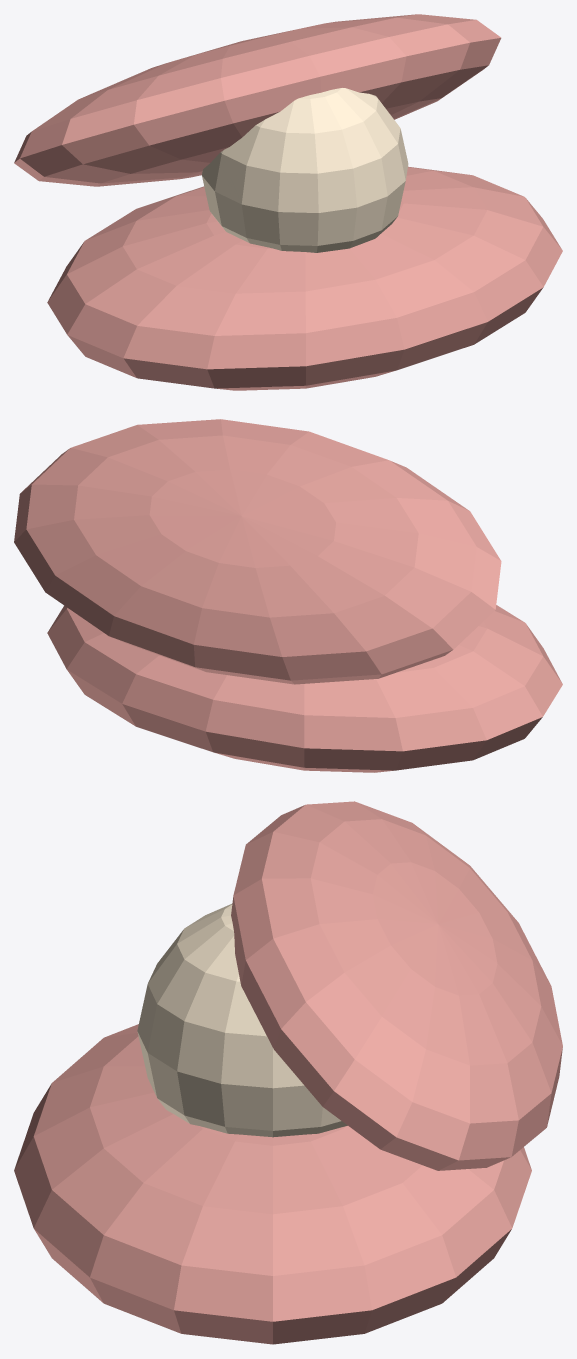
The model's file is palau-pearl-gift.glb.
3 renders of one model, top to bottom at view 1: azimuth 30°, elevation 25°; view 2: azimuth 150°, elevation 25°; view 3: azimuth 270°, elevation 25°, orthographic. The views are drawn at different scales.
Visible parts, largest first — view 1: ひらく かい, かいの ふた, しんじゅ; view 2: かいの ふた, ひらく かい; view 3: ひらく かい, かいの ふた, しんじゅ.
Part boxes in pixels (left/top/right/bottom): ひらく かい: left=47, top=166, right=562, bottom=390; かいの ふた: left=14, top=14, right=501, bottom=186; しんじゅ: left=202, top=88, right=408, bottom=252; かいの ふた: left=14, top=419, right=501, bottom=684; ひらく かい: left=47, top=605, right=562, bottom=772; ひらく かい: left=14, top=1024, right=531, bottom=1344; かいの ふた: left=231, top=801, right=562, bottom=1170; しんじゅ: left=137, top=904, right=347, bottom=1137.
Size of the model in its own units: 1.16 by 0.6829 by 0.8902.
